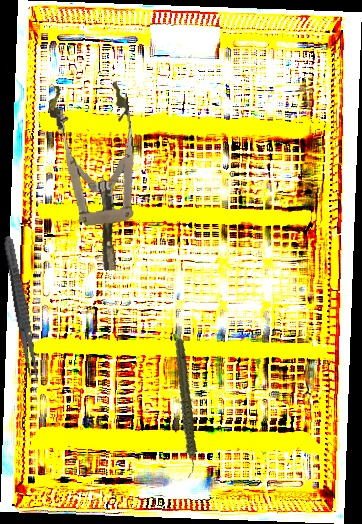Dressing Forceps: (0, 234, 43, 383)
Handpiece: (156, 337, 213, 479)
Speculum: (46, 77, 149, 276)
